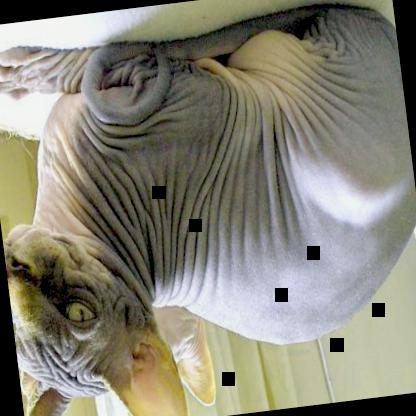cat: (0, 0, 415, 415), (113, 297, 221, 415)
